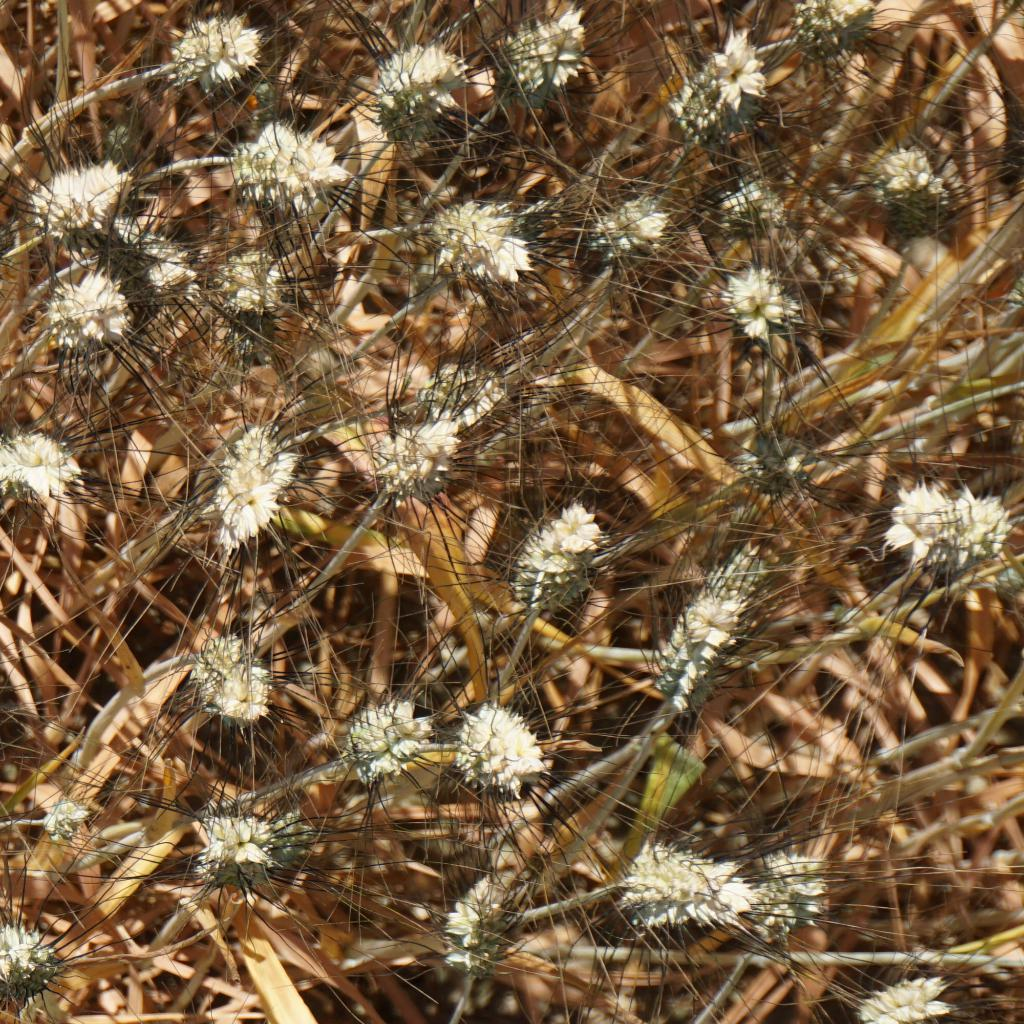0-0: (214, 397, 294, 559), (710, 840, 840, 939), (856, 125, 974, 230), (665, 21, 774, 128), (425, 183, 533, 283), (884, 476, 1004, 565), (498, 9, 608, 106), (612, 828, 718, 927), (726, 406, 824, 511), (509, 509, 606, 612), (637, 596, 736, 693), (240, 114, 336, 214), (49, 265, 143, 364), (186, 811, 301, 888), (153, 4, 265, 82), (186, 616, 273, 712), (374, 37, 460, 132), (348, 705, 437, 795), (37, 135, 125, 226), (366, 415, 454, 496), (0, 421, 96, 494), (714, 263, 805, 340), (462, 698, 543, 783), (0, 900, 65, 1002), (456, 862, 519, 966), (202, 232, 283, 311), (852, 961, 951, 1024), (783, 0, 875, 63), (118, 222, 193, 297), (423, 354, 498, 427), (588, 186, 659, 251), (707, 163, 777, 222), (29, 791, 92, 846)
